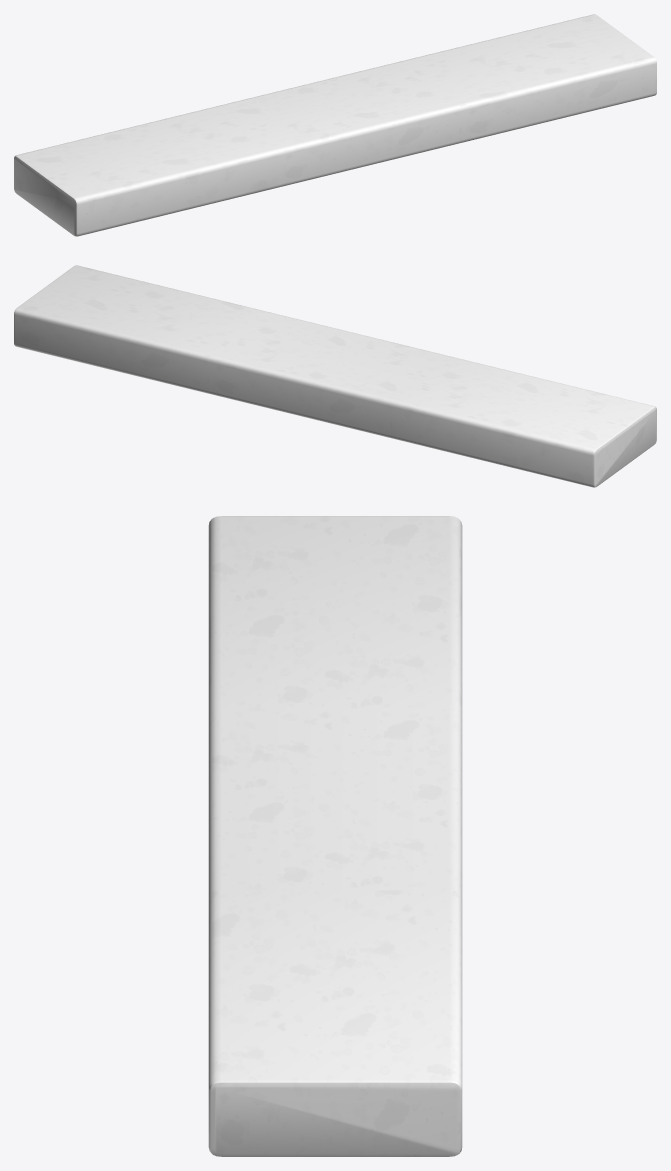
File: obstacle_block_254x16.fbx
3 renders of one model, top to bottom at view 1: azimuth 30°, elevation 25°; view 2: azimuth 150°, elevation 25°; view 3: azimuth 270°, elevation 25°, orthographic. The views are drawn at different scales.
Parts seen in each view (by area): view 1: obstacle_block_254x16; view 2: obstacle_block_254x16; view 3: obstacle_block_254x16.
Boxes of the visible parts, x1,y1,x2,y2 form: obstacle_block_254x16: (14, 14, 656, 236); obstacle_block_254x16: (14, 265, 656, 487); obstacle_block_254x16: (208, 516, 462, 1156).
Size of the model in its own units: 254 by 16 by 48.
Materials: 1 (1 with a texture image).
